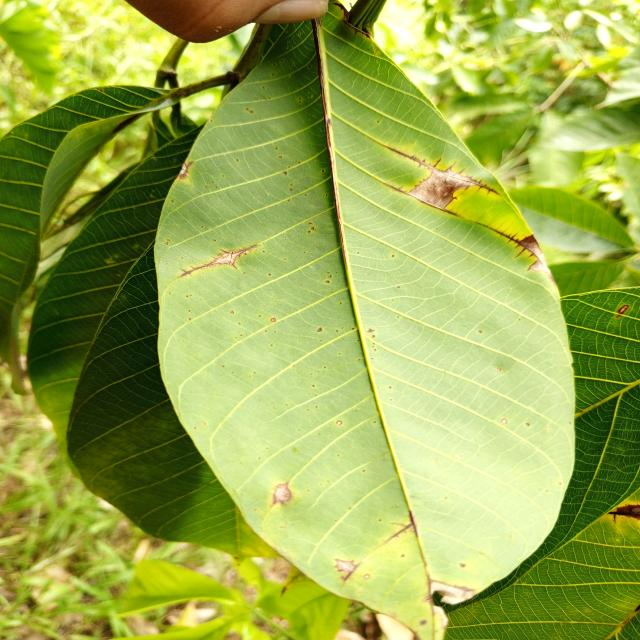Colletotrichum: (501, 418, 507, 424), (364, 574, 371, 579), (270, 318, 276, 322), (337, 421, 342, 425), (326, 280, 330, 284)
Corynespora: (388, 144, 500, 196), (490, 227, 552, 280), (180, 244, 257, 277), (381, 510, 419, 544), (606, 503, 640, 524), (334, 559, 362, 580), (424, 202, 459, 218), (383, 182, 409, 195)
